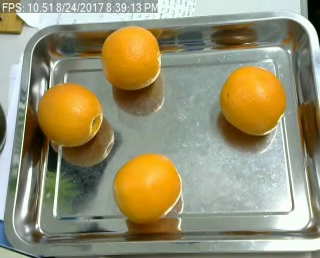Orange: (114, 152, 182, 222), (220, 66, 286, 135), (37, 82, 103, 145), (102, 26, 161, 88)
